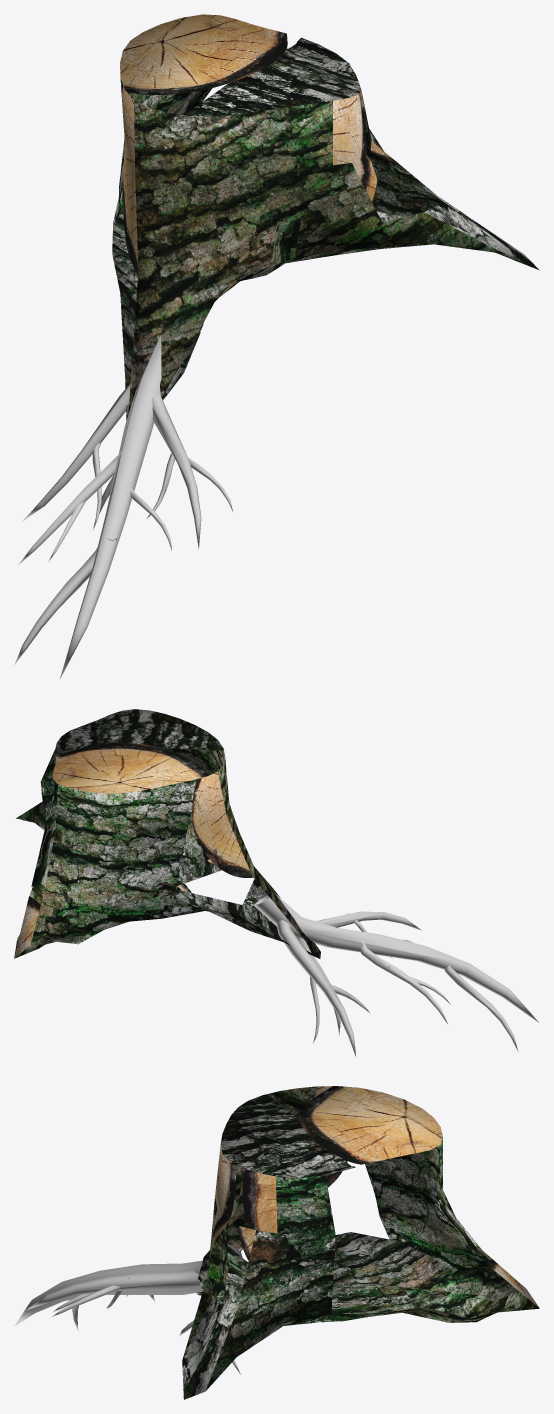
File: stump-with-roots.fbx
3 renders of one model, top to bottom at view 1: azimuth 30°, elevation 25°; view 2: azimuth 150°, elevation 25°; view 3: azimuth 270°, elevation 25°, orthographic. The views are drawn at different scales.
Visible parts, largest first — view 1: Stump, Root; view 2: Stump, Root; view 3: Stump, Root.
Part boxes in pixels (x1,y1,x2,y2): Stump: [112, 14, 539, 420]; Root: [14, 334, 232, 678]; Stump: [14, 709, 320, 958]; Root: [253, 894, 538, 1057]; Stump: [182, 1086, 539, 1399]; Root: [14, 1243, 242, 1374].
Bounding box in the file's own units: 25413 × 16994 × 22458.
